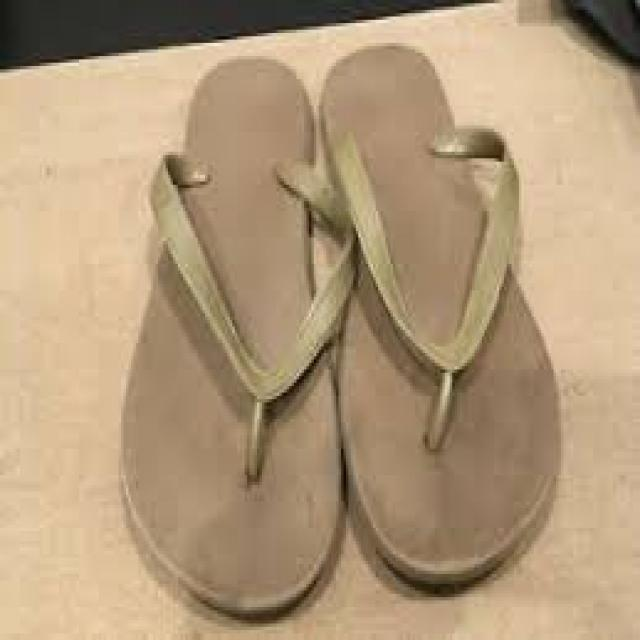other: (121, 59, 356, 615), (324, 49, 561, 589)
